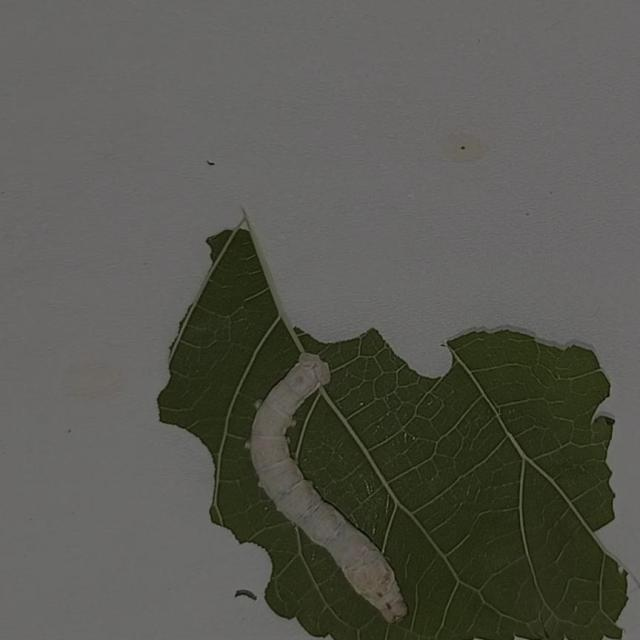Healthy: (217, 326, 432, 640)
